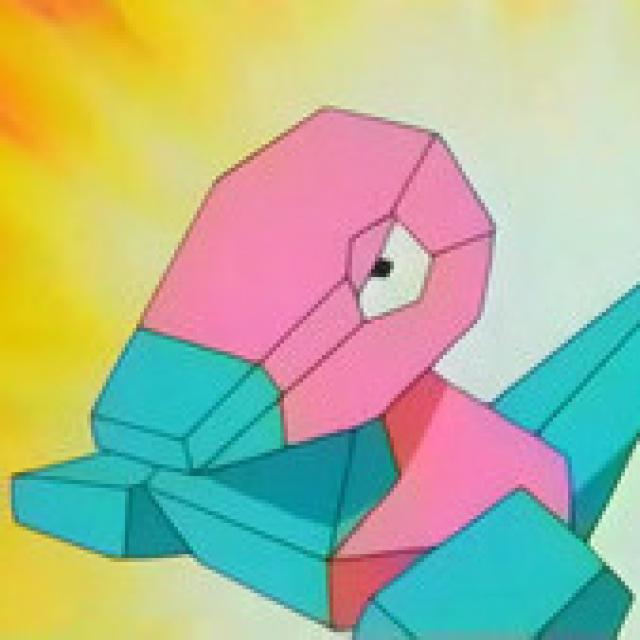Porygon: (100, 108, 601, 640)
